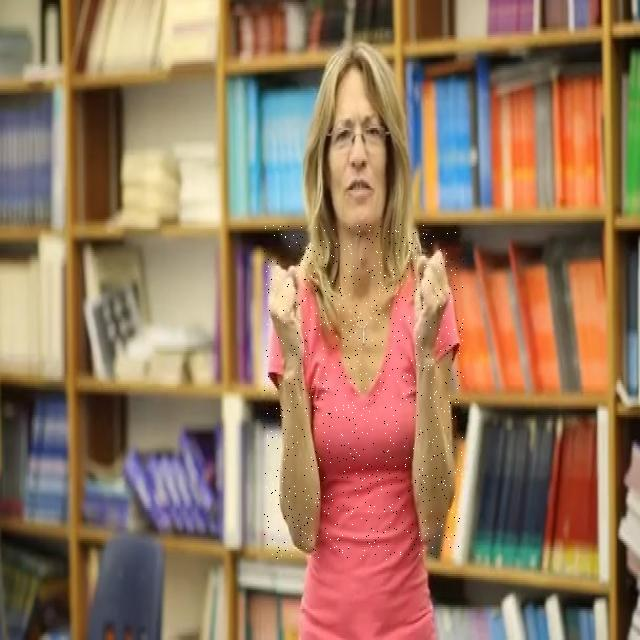cold: (264, 224, 464, 560)
